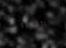eight: (22, 20, 26, 28), (33, 20, 37, 27)
four: (28, 20, 32, 28)
nine: (17, 21, 21, 28)
one: (43, 19, 47, 26)
seven: (38, 19, 42, 27)
